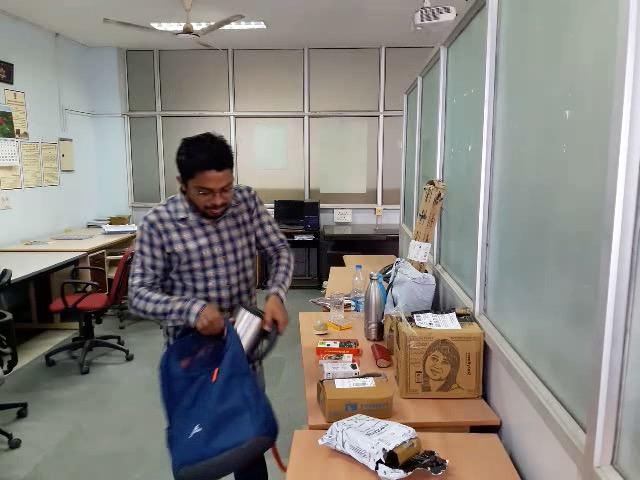shoplifting: (24, 256, 390, 480)
